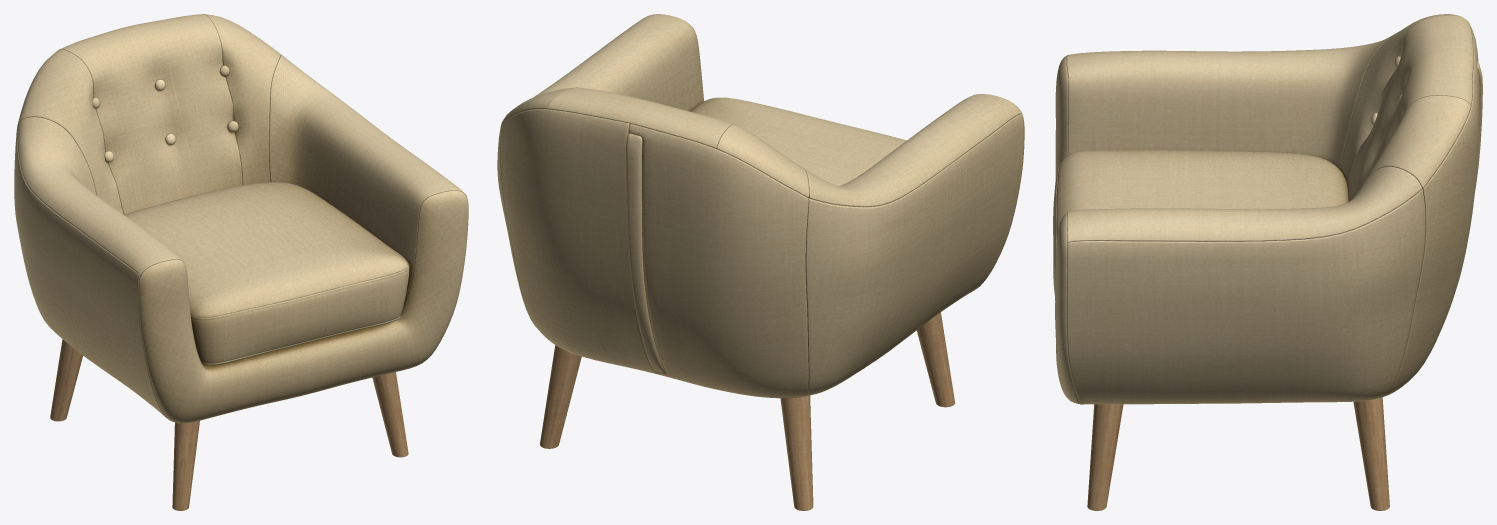
Rendered from Beige Armchair.glb.
3 views of the same model, side by side, from view 1: azimuth 30°, elevation 25°; view 2: azimuth 150°, elevation 25°; view 3: azimuth 270°, elevation 25° (orthographic). The views are drawn at different scales.
Parts seen in each view (by area): view 1: PEARL_GREY, LEGS, RAINBOW_BUTTONS; view 2: PEARL_GREY, LEGS; view 3: PEARL_GREY, LEGS.
Part boxes in pixels (bbox=[...]): PEARL_GREY: bbox=[14, 14, 468, 423]; LEGS: bbox=[50, 339, 408, 510]; RAINBOW_BUTTONS: bbox=[92, 65, 238, 162]; PEARL_GREY: bbox=[497, 14, 1024, 398]; LEGS: bbox=[540, 312, 954, 510]; PEARL_GREY: bbox=[1053, 14, 1482, 404]; LEGS: bbox=[1087, 397, 1389, 510].
Size of what is drawn, in the model's own units: 54.97 by 54.12 by 53.45.
3 materials, 3 textured.
